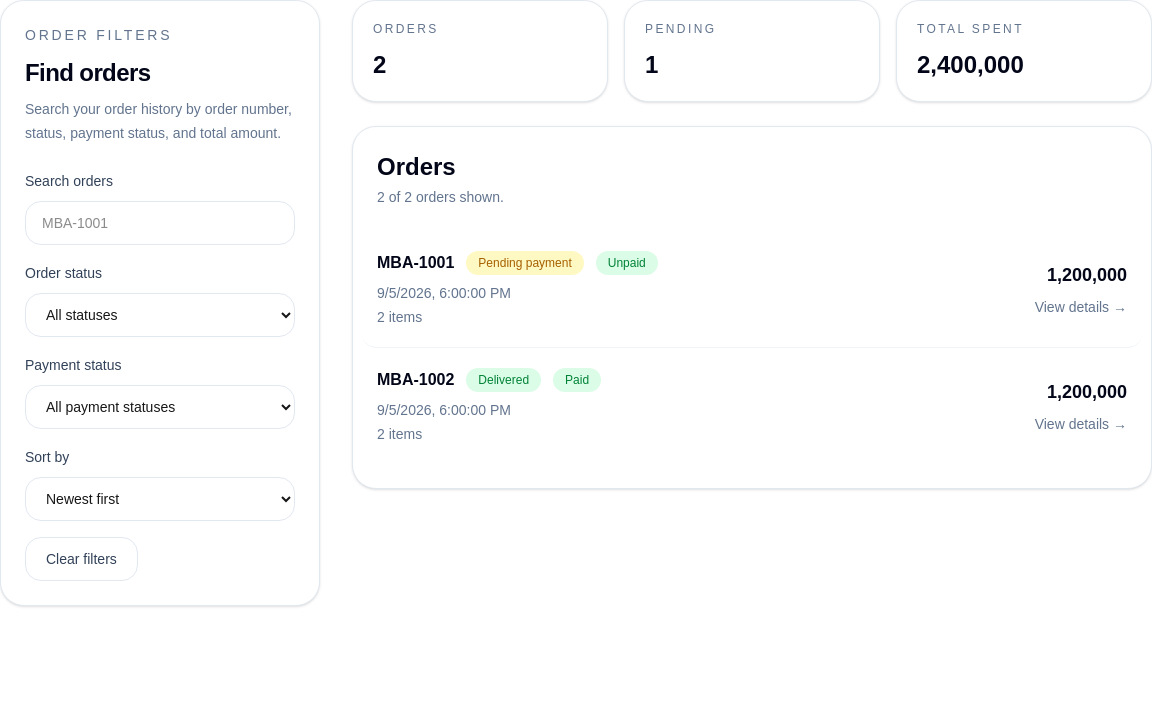
Test: OrdersList › clears filters
Expected: the heading "MBA-1001" is shown, x1=377 y1=251 x2=454 y2=275
In the field labelled "Search orders": x=160, y=223 x1=25 y1=201 x2=295 y2=245, type "1002"
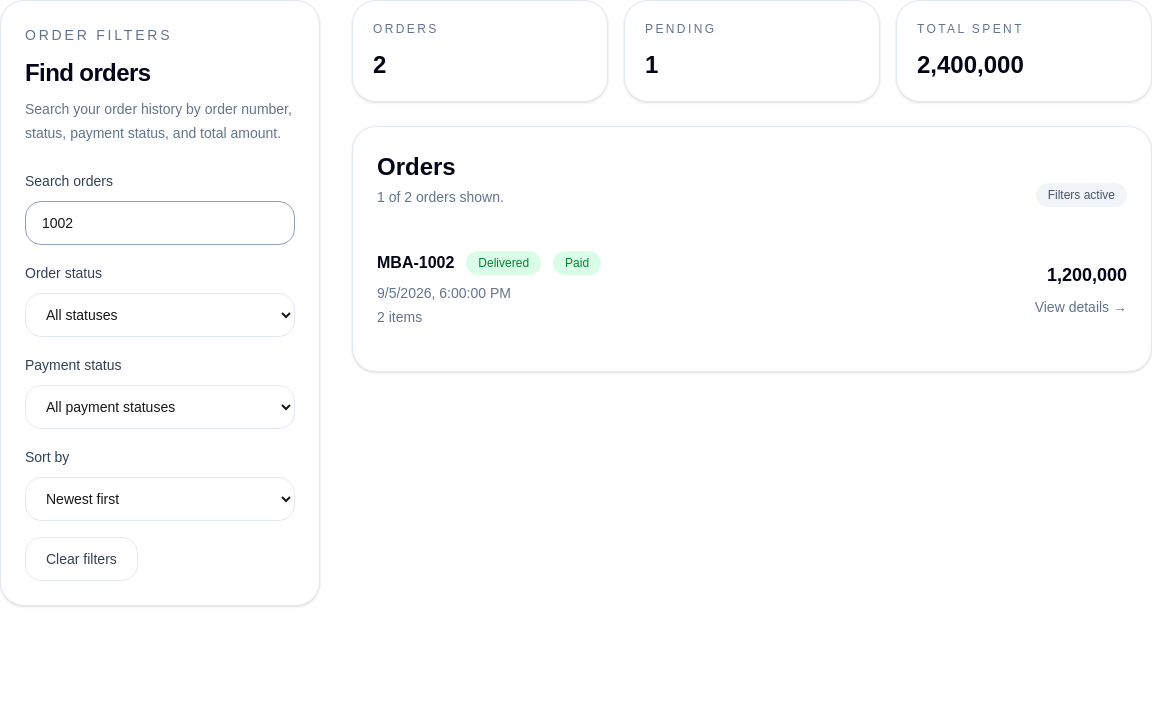
Expected: the link "MBA-1001" is gone
Click the button "Clear filters": x=81, y=559 x1=25 y1=537 x2=138 y2=581
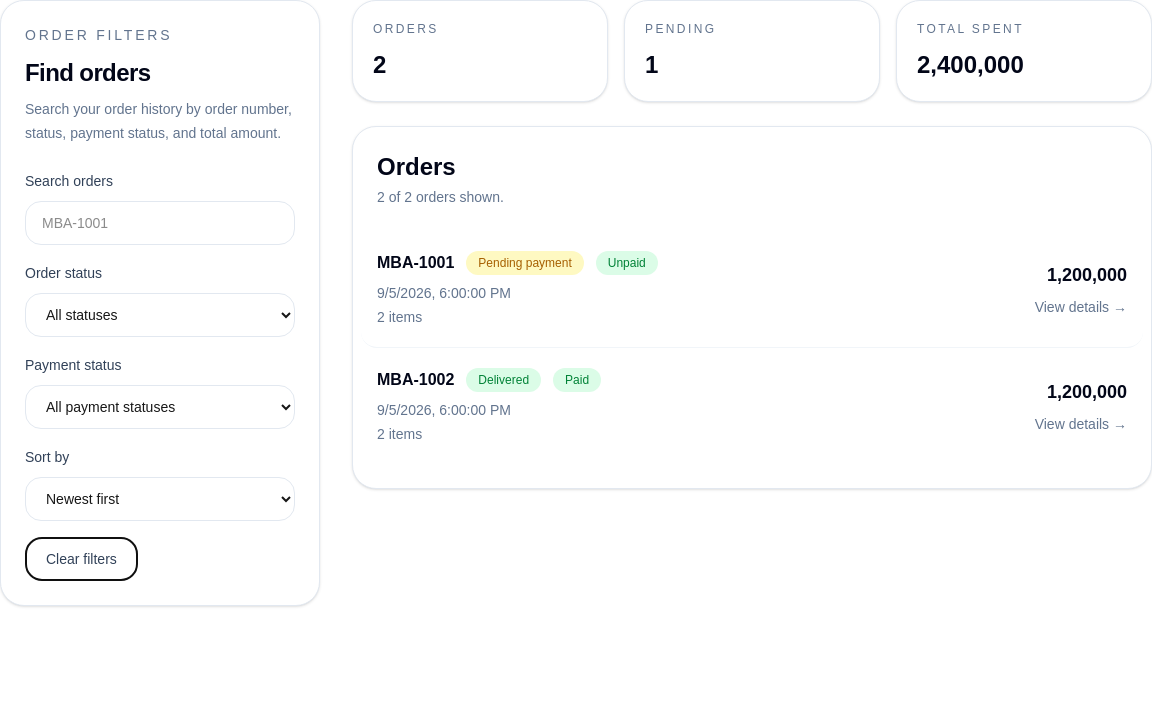
Expected: the heading "MBA-1002" is shown, x1=377 y1=368 x2=454 y2=392
Expected: the heading "MBA-1001" is shown, x1=377 y1=251 x2=454 y2=275
